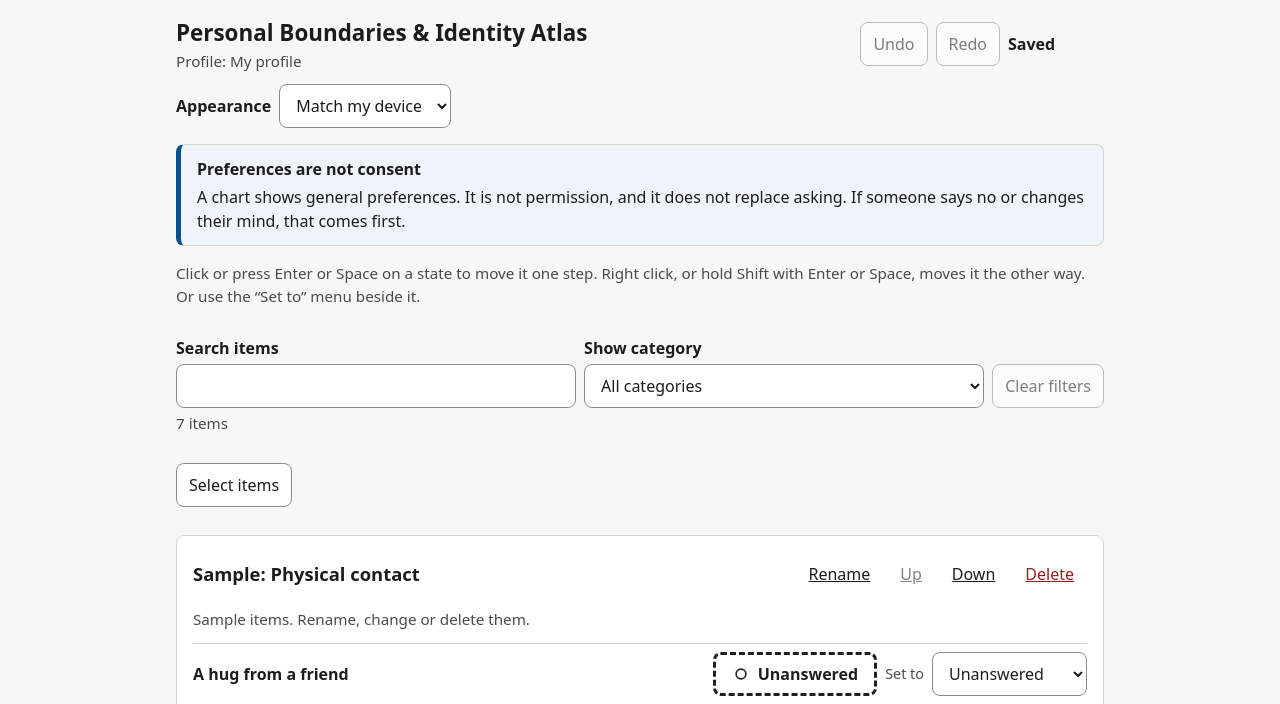
a failed save (M1-AC-06) › saves the kept change when the person tries again
Expected: the heading "Personal Boundaries & Identity Atlas" is shown, [176,16,588,50]
Click the button "Unanswered" at (795, 674), box [713,652,877,696]
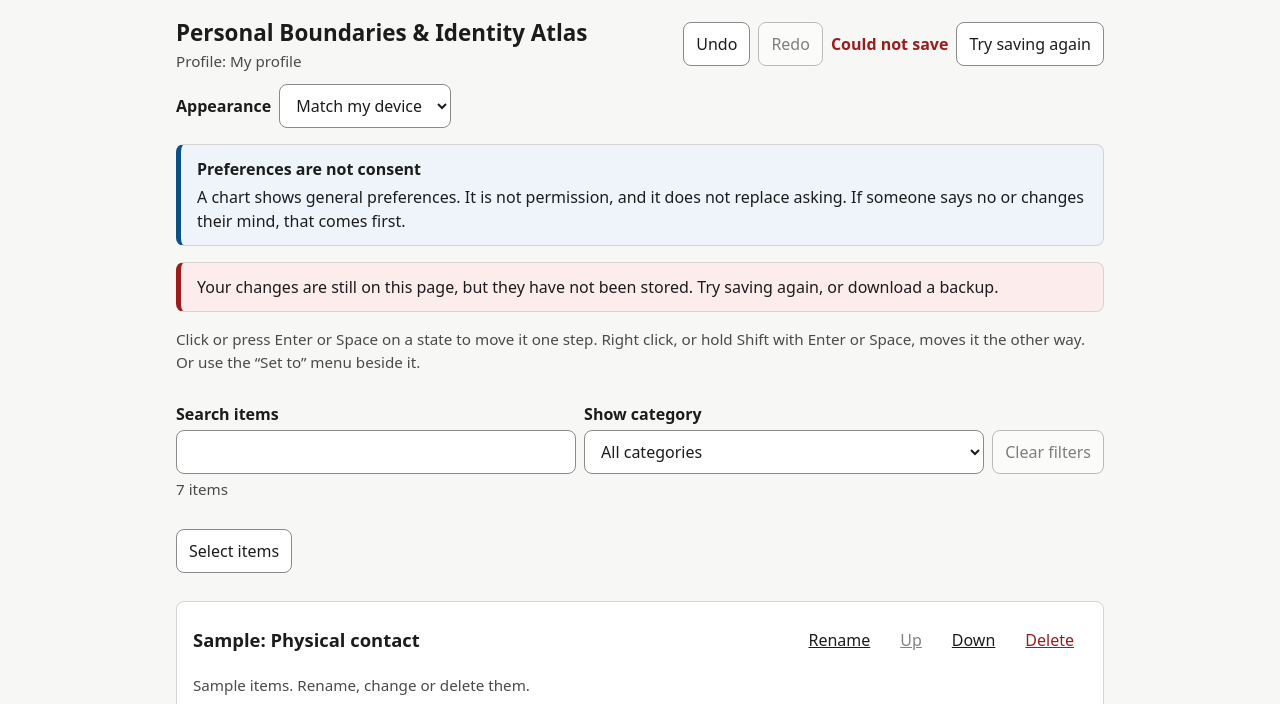
Expected: the text with class "save-status" reads "Could not save", [831,33,948,55]
Click the button "Try saving again" at (1030, 44), box [956,22,1104,66]
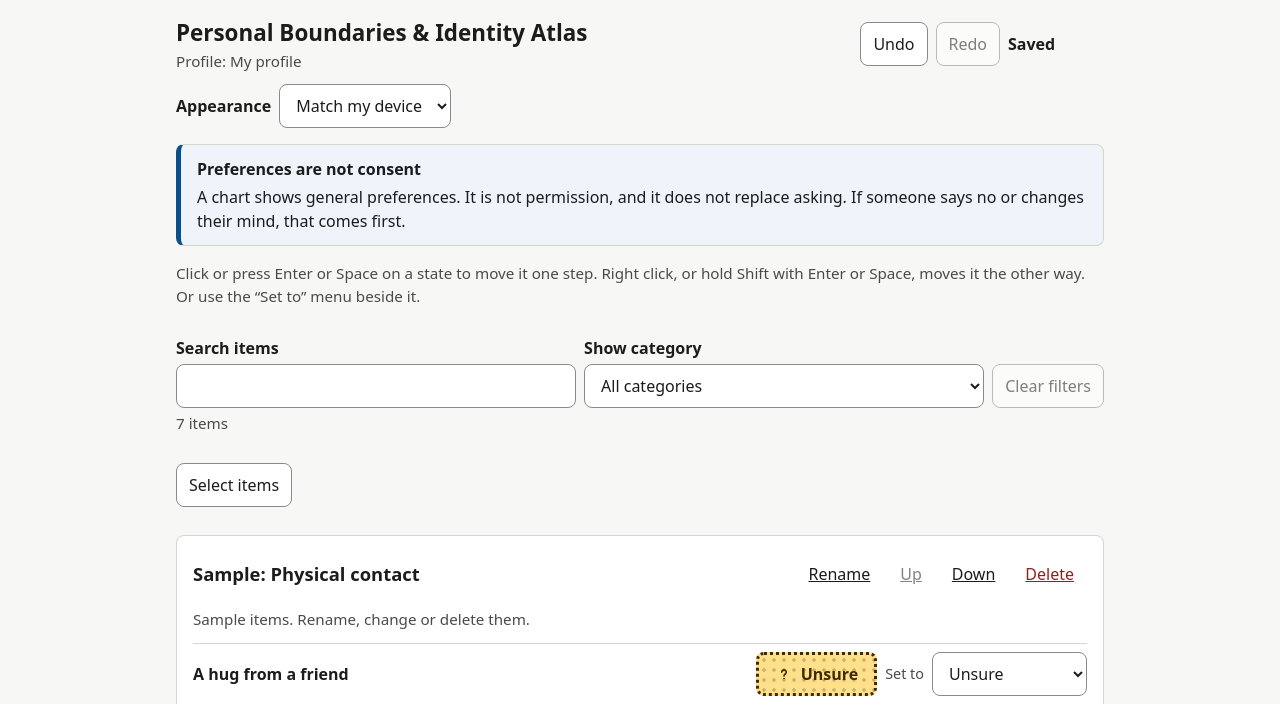
Expected: the text with class "save-status" reads "Saved", [1008,33,1055,55]
Expected: the button "Try saving again" is gone
